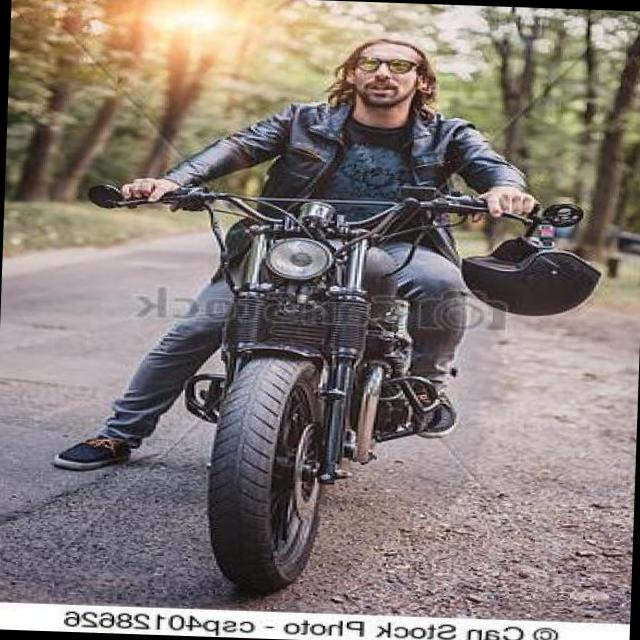No helmet: (325, 26, 444, 136)
